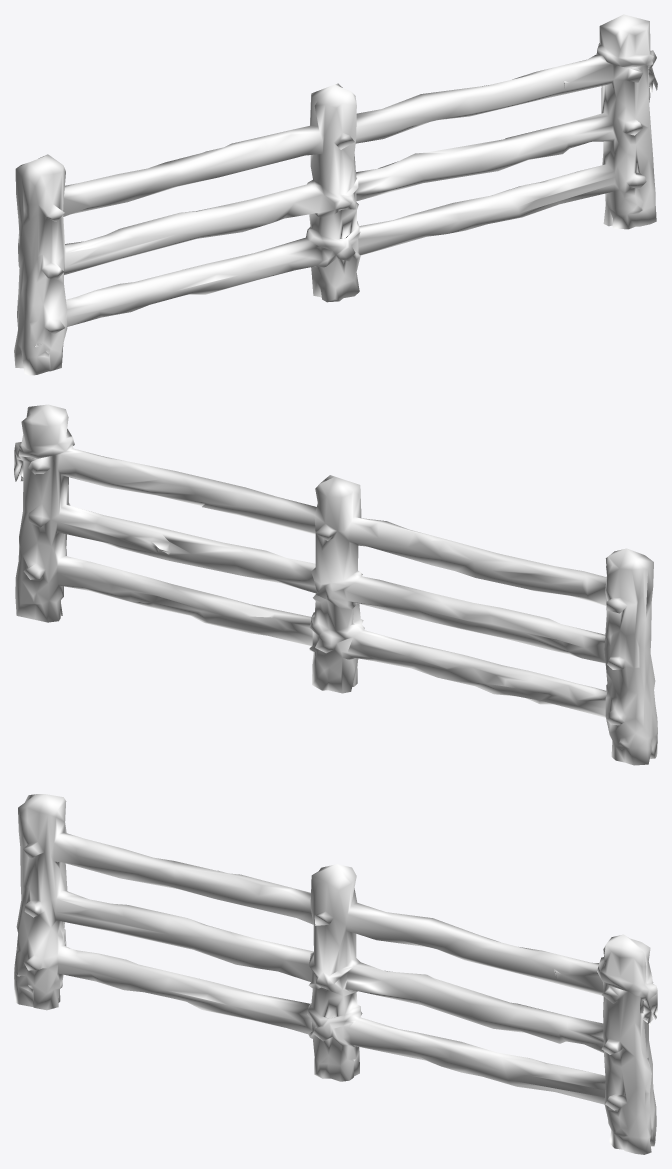
Rendered from fence.glb.
3 views of the same model, one above another, from view 1: azimuth 30°, elevation 25°; view 2: azimuth 150°, elevation 25°; view 3: azimuth 330°, elevation 25° (orthographic).
Parts seen in each view (by area): view 1: fence; view 2: fence; view 3: fence.
Boxes of the visible parts, left/top/right/bottom form: fence: left=14, top=14, right=657, bottom=375; fence: left=14, top=404, right=657, bottom=765; fence: left=14, top=794, right=657, bottom=1154.
Size of the model in its own units: 3.99 by 1.25 by 0.2998.
1 material, 1 textured.
